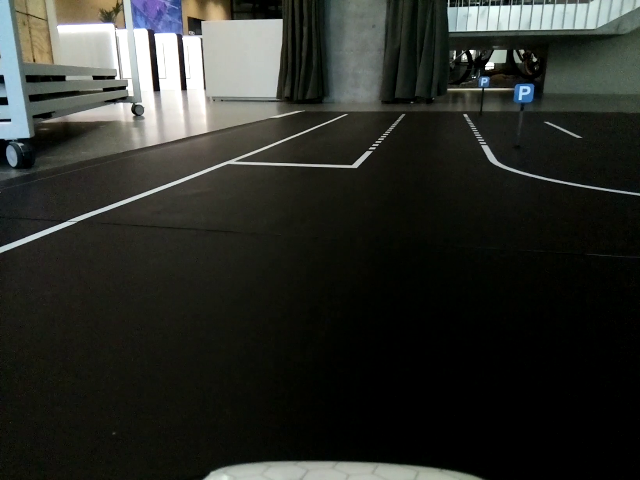park: (515, 84, 534, 103), (479, 77, 491, 87)
